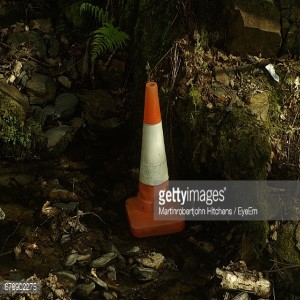traffic cone: (125, 81, 185, 238)
